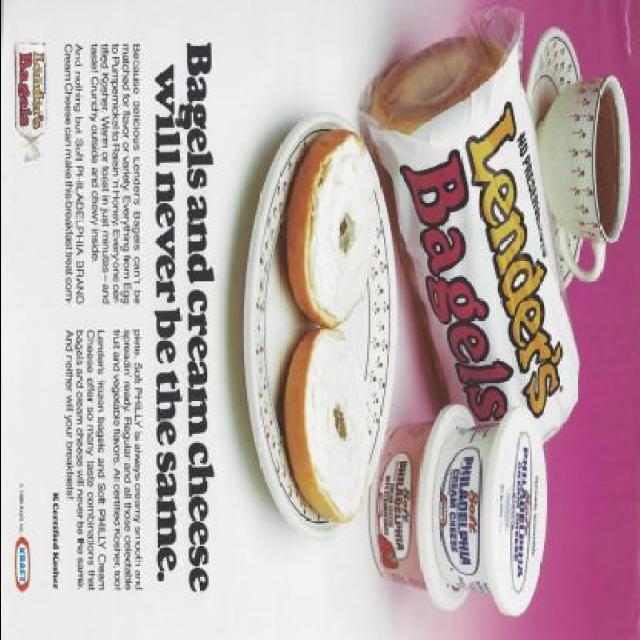Bagel: (282, 128, 382, 328), (282, 324, 372, 522), (362, 34, 500, 132)
